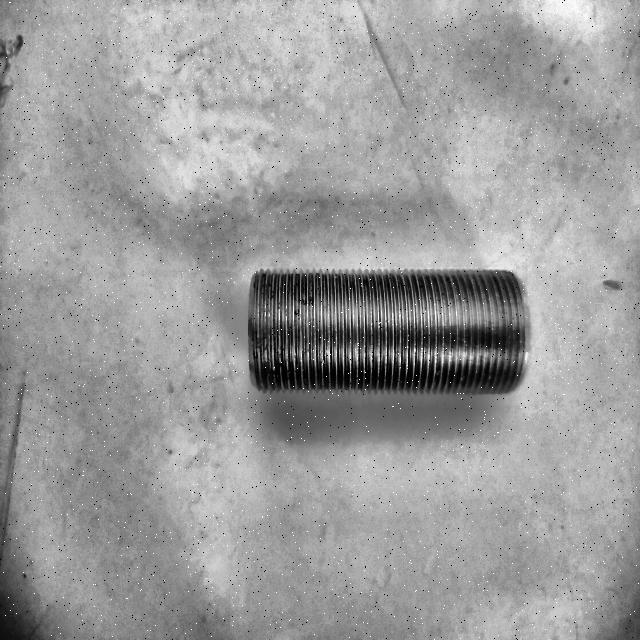Normal: (246, 266, 530, 398)
